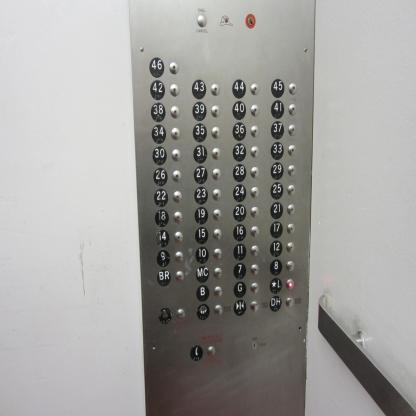10: (195, 246, 209, 264)
11: (233, 243, 246, 260)
12: (270, 240, 282, 258)
14: (154, 229, 170, 248)
15: (194, 226, 209, 245)
16: (232, 223, 247, 241)
17: (270, 220, 283, 238)
18: (155, 209, 169, 227)
19: (194, 206, 209, 226)
20: (233, 204, 247, 222)
21: (270, 201, 283, 220)
22: (154, 188, 168, 207)
23: (194, 186, 208, 204)
24: (232, 184, 247, 203)
25: (270, 182, 283, 199)
26: (153, 167, 168, 187)
27: (194, 165, 208, 184)
28: (232, 163, 247, 183)
29: (270, 162, 284, 180)
30: (152, 146, 167, 166)
31: (193, 144, 207, 164)
32: (233, 142, 246, 161)
33: (270, 141, 284, 160)
34: (151, 124, 166, 144)
35: (193, 123, 207, 142)
36: (232, 122, 247, 141)
37: (270, 120, 284, 140)
38: (150, 101, 166, 123)
39: (191, 100, 207, 122)
40: (232, 100, 246, 120)
41: (270, 99, 284, 119)
42: (149, 79, 165, 100)
43: (191, 78, 206, 100)
44: (231, 78, 247, 98)
45: (270, 79, 284, 98)
46: (148, 56, 165, 79)
7: (233, 262, 246, 279)
8: (269, 258, 283, 277)
9: (156, 248, 170, 267)
B: (195, 284, 210, 302)
BR: (157, 269, 171, 286)
DH: (269, 295, 282, 312)
G: (233, 281, 246, 297)
MC: (195, 266, 209, 283)
alarm: (158, 307, 173, 324)
call: (189, 344, 203, 362)
close: (233, 299, 247, 316)
indicator: (196, 12, 208, 28), (168, 60, 179, 76), (169, 82, 180, 97), (250, 184, 261, 199), (250, 225, 261, 240), (287, 142, 298, 157), (287, 123, 298, 138), (250, 123, 260, 139), (250, 144, 260, 160), (286, 182, 296, 198), (288, 102, 298, 118), (288, 80, 298, 96), (210, 82, 221, 96), (249, 300, 260, 314), (213, 266, 223, 281), (213, 247, 223, 262), (250, 102, 260, 117), (250, 263, 260, 278), (286, 201, 296, 216), (172, 212, 184, 224), (212, 146, 221, 162), (170, 104, 180, 118), (174, 250, 184, 264), (212, 188, 222, 202), (211, 126, 221, 140), (210, 104, 220, 118), (250, 81, 260, 95), (250, 166, 260, 180), (250, 244, 260, 258), (250, 281, 260, 295), (287, 163, 297, 177), (171, 127, 181, 140), (172, 149, 182, 162), (172, 191, 182, 204), (175, 270, 185, 283), (212, 208, 222, 221), (250, 206, 260, 219), (174, 231, 183, 245), (213, 228, 222, 242), (172, 170, 182, 182), (176, 308, 186, 320), (213, 286, 223, 298), (211, 168, 221, 180), (214, 304, 223, 317), (286, 277, 294, 291), (207, 346, 216, 358), (285, 296, 294, 308), (286, 259, 294, 272), (286, 241, 295, 252), (287, 223, 295, 234)
keyhole: (246, 14, 256, 28), (250, 340, 258, 350)
open: (196, 304, 210, 320)
sL: (268, 278, 283, 294)
